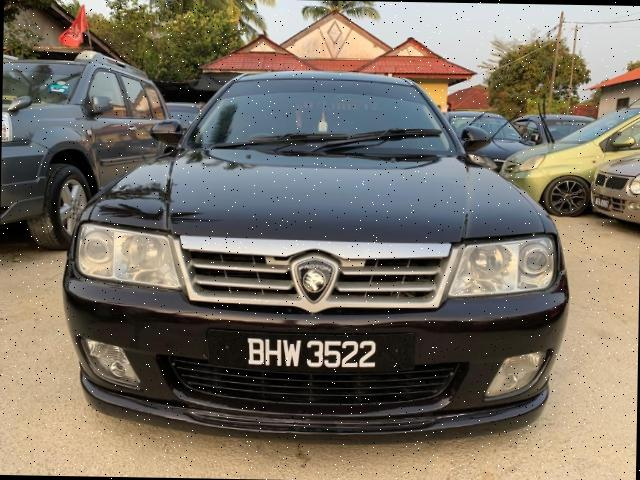License_Plate: (216, 332, 400, 375)
car: (53, 64, 577, 451)
